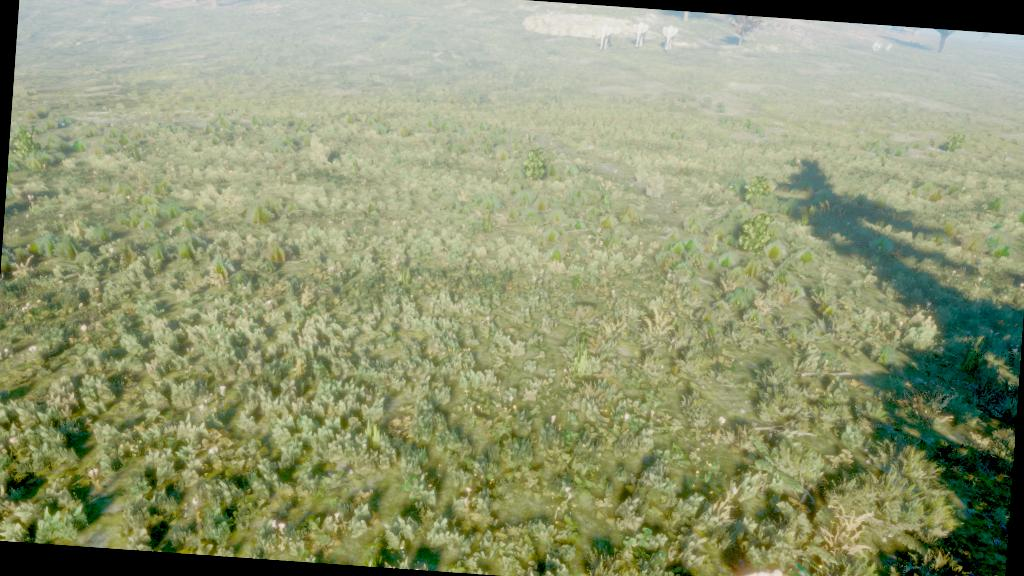elephant: (656, 14, 686, 58), (626, 16, 655, 53), (590, 22, 618, 57)
